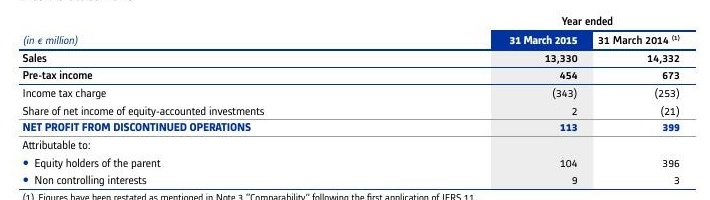table: (0, 0, 710, 200)
